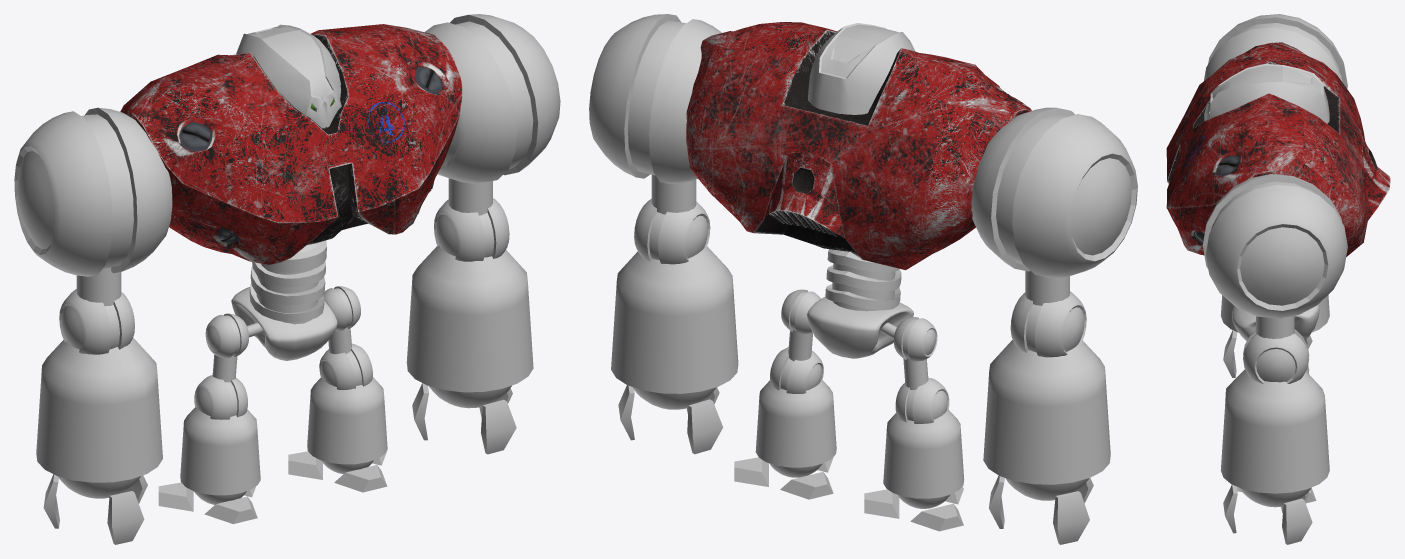
File: Robot4Export.fbx
3 views of the same model, side by side, from view 1: azimuth 30°, elevation 25°; view 2: azimuth 150°, elevation 25°; view 3: azimuth 270°, elevation 25° (orthographic). The views are drawn at different scales.
Parts seen in each view (by area): view 1: Torso, R_Shoulder, L_Forearm, R_Forearm, L_Shoulder, R_Calf, L_Calf, Face, Waist, R_Elbow, L_Elbow, Pelvis (+12 smaller); view 2: Torso, R_Shoulder, L_Forearm, R_Forearm, L_Shoulder, Face, R_Calf, L_Calf, BackVent, Pelvis, R_Elbow, Waist (+15 smaller); view 3: Torso, L_Shoulder, L_Forearm, Face, R_Shoulder, L_Elbow, BackVent, Pelvis, L_Finger02, L_Bicep, R_Forearm, L_Finger01 (+1 smaller).
Part boxes in pixels (x1,y1,x2,y2): Torso: [120, 24, 462, 264]; R_Shoulder: [14, 107, 172, 276]; L_Forearm: [406, 245, 533, 408]; R_Forearm: [36, 337, 162, 498]; L_Shoulder: [425, 14, 560, 183]; R_Calf: [180, 407, 260, 504]; L_Calf: [307, 377, 387, 474]; Face: [236, 24, 341, 128]; Waist: [249, 240, 326, 324]; R_Elbow: [59, 289, 134, 354]; L_Elbow: [434, 198, 509, 261]; Pelvis: [231, 287, 337, 360]; Torso: [686, 22, 1031, 270]; R_Shoulder: [971, 107, 1137, 277]; L_Forearm: [611, 246, 738, 409]; R_Forearm: [983, 340, 1110, 500]; L_Shoulder: [589, 14, 721, 183]; Face: [808, 23, 915, 114]; R_Calf: [883, 409, 964, 508]; L_Calf: [755, 380, 836, 477]; BackVent: [764, 152, 844, 238]; Pelvis: [807, 297, 913, 358]; R_Elbow: [1010, 291, 1086, 357]; Waist: [825, 249, 901, 311]; Torso: [1166, 42, 1367, 256]; L_Shoulder: [1202, 174, 1347, 318]; L_Forearm: [1220, 369, 1329, 507]; Face: [1204, 64, 1329, 123]; R_Shoulder: [1204, 14, 1347, 88]; L_Elbow: [1243, 329, 1309, 383]; BackVent: [1363, 137, 1390, 220]; Pelvis: [1232, 303, 1319, 340]; L_Finger02: [1282, 498, 1312, 544]; L_Bicep: [1256, 315, 1294, 338]; R_Forearm: [1220, 295, 1329, 341]; L_Finger01: [1223, 484, 1237, 533].
Size of the model in its own units: 4.37 by 3.68 by 1.94.
